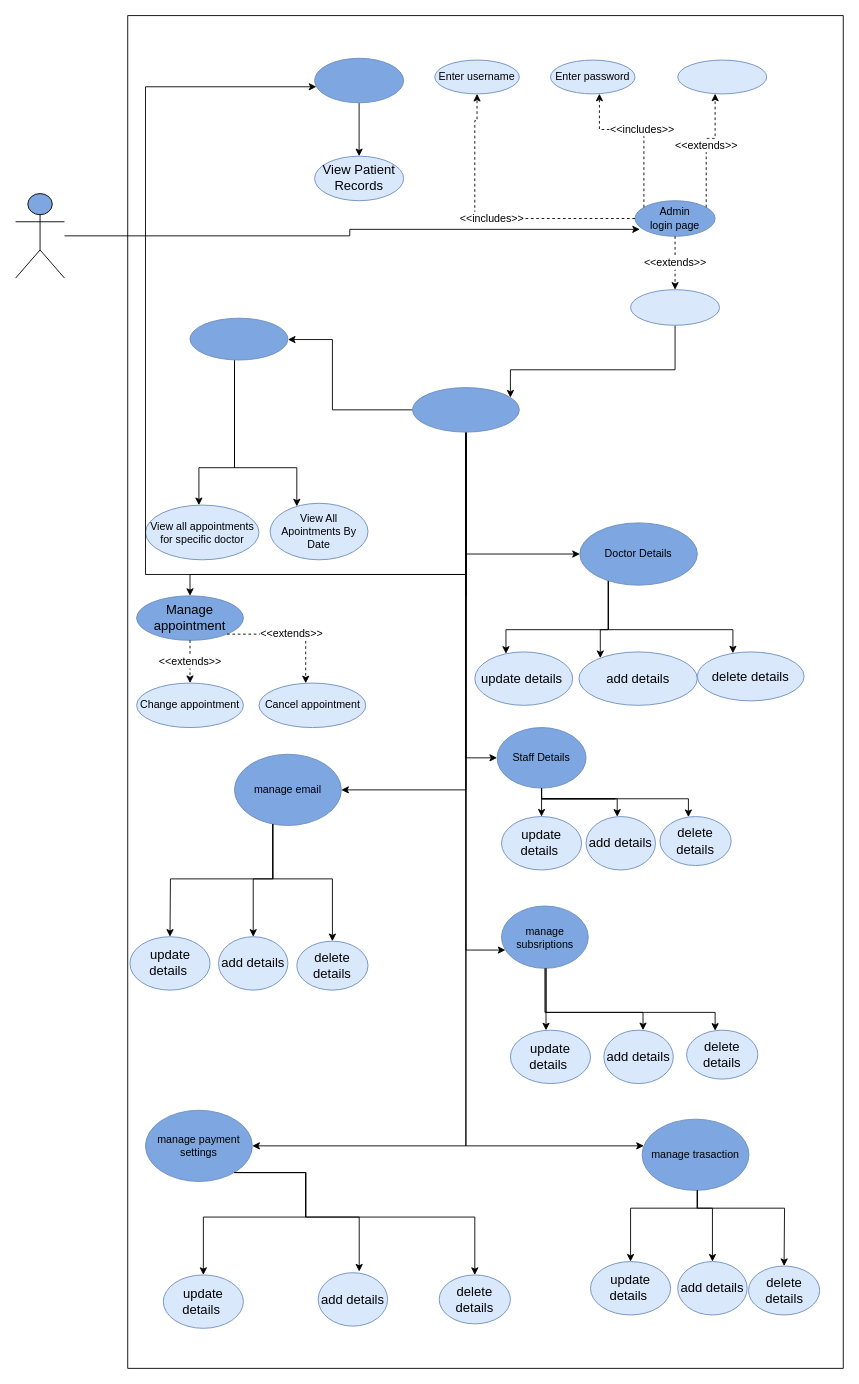
The diagram is 859 pixels wide and 1384 high, and some of its shapes have lost their labels. Here are the shapes that lost their labels. From the top down, the centre of each, then its label:
the point at 359,80: Patient Records
the point at 722,76: Login Fail
the point at 40,235: Admin
the point at 675,307: Login successful
the point at 238,338: View All Apointments
the point at 465,409: Admin Home page
